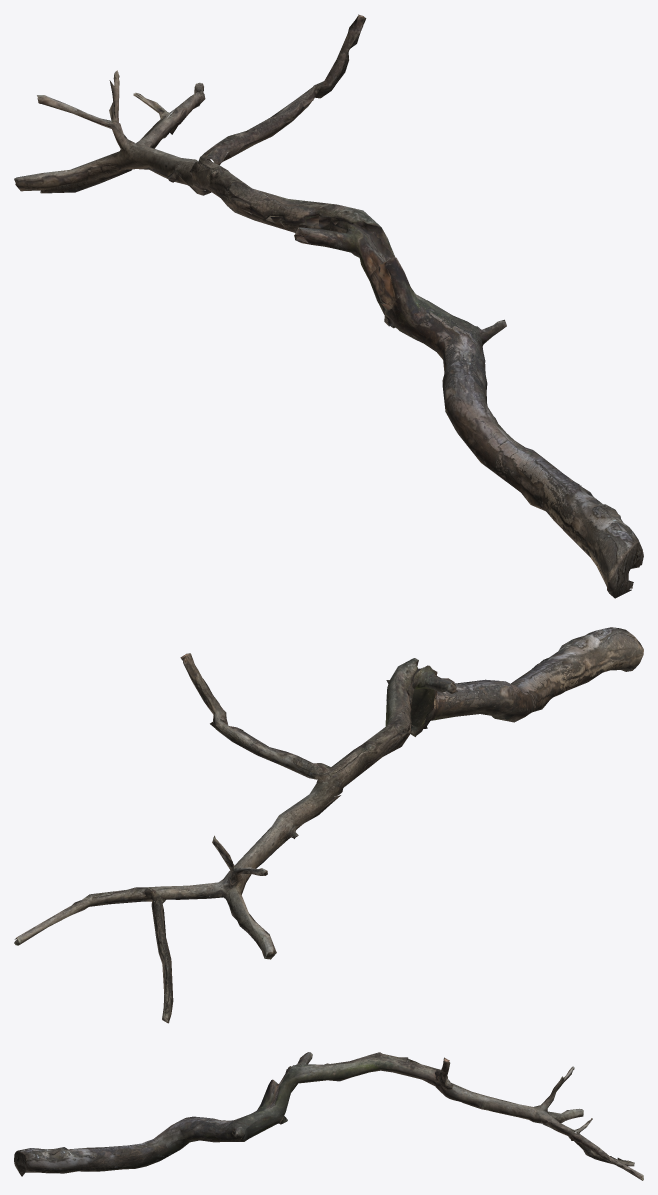
Rendered from twigs.glb.
3 renders of one model, top to bottom at view 1: azimuth 30°, elevation 25°; view 2: azimuth 150°, elevation 25°; view 3: azimuth 270°, elevation 25°, orthographic. The views are drawn at different scales.
Visible parts, largest first — view 1: dry_branches_medium_01_a; view 2: dry_branches_medium_01_a; view 3: dry_branches_medium_01_a.
Boxes of the visible parts, left/top/right/bottom form: dry_branches_medium_01_a: left=14, top=14, right=643, bottom=598; dry_branches_medium_01_a: left=14, top=627, right=643, bottom=1023; dry_branches_medium_01_a: left=14, top=1052, right=643, bottom=1180.
Size of the model in its own units: 0.3491 by 0.3667 by 1.4.
1 material, 1 textured.
